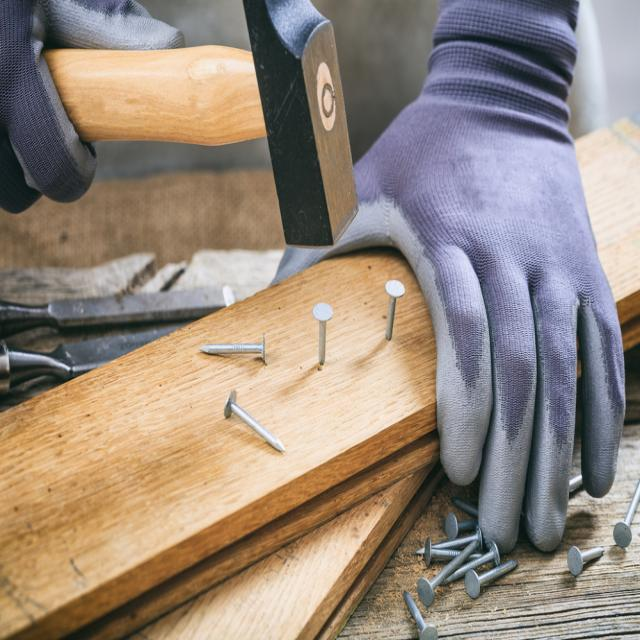gloves: (270, 1, 628, 556)
